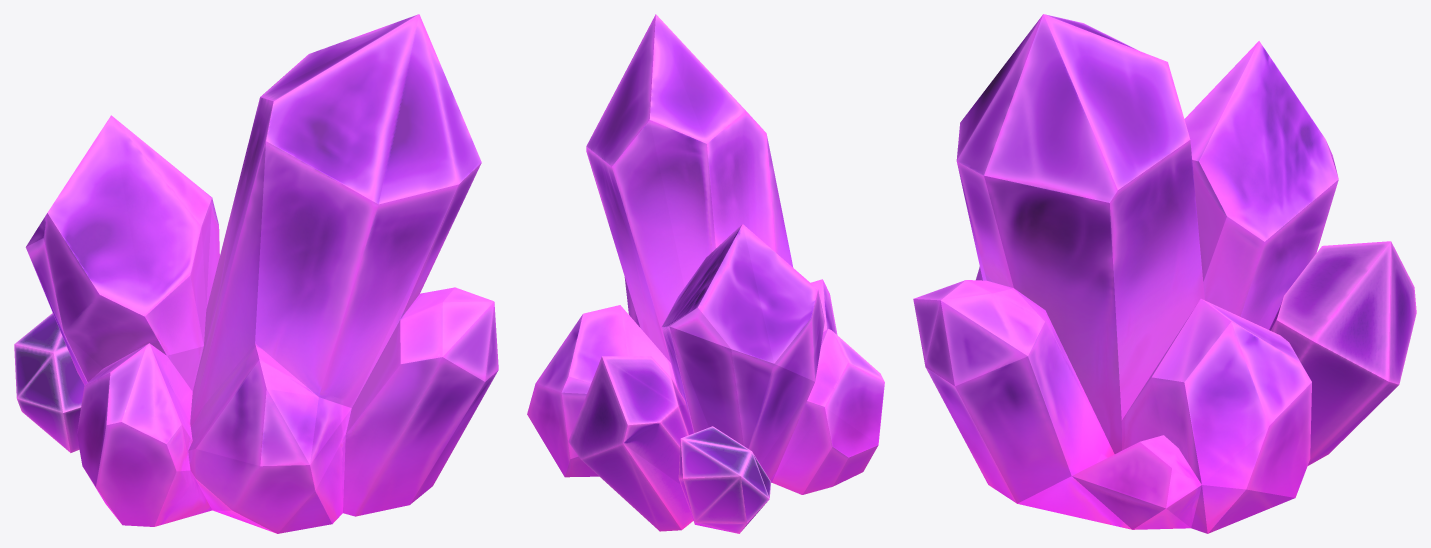
Rendered from crystal_chunk_001.fbx.
3 renders of one model, left to right at view 1: azimuth 30°, elevation 25°; view 2: azimuth 150°, elevation 25°; view 3: azimuth 270°, elevation 25°, orthographic. The views are drawn at different scales.
Parts seen in each view (by area): view 1: crystal_white.017; view 2: crystal_white.017; view 3: crystal_white.017.
Part boxes in pixels (x1,y1,x2,y2): crystal_white.017: (14,14,498,533); crystal_white.017: (527,14,884,533); crystal_white.017: (913,14,1416,533).
Bounding box in the file's own units: 13.05 × 15.91 × 14.14.
